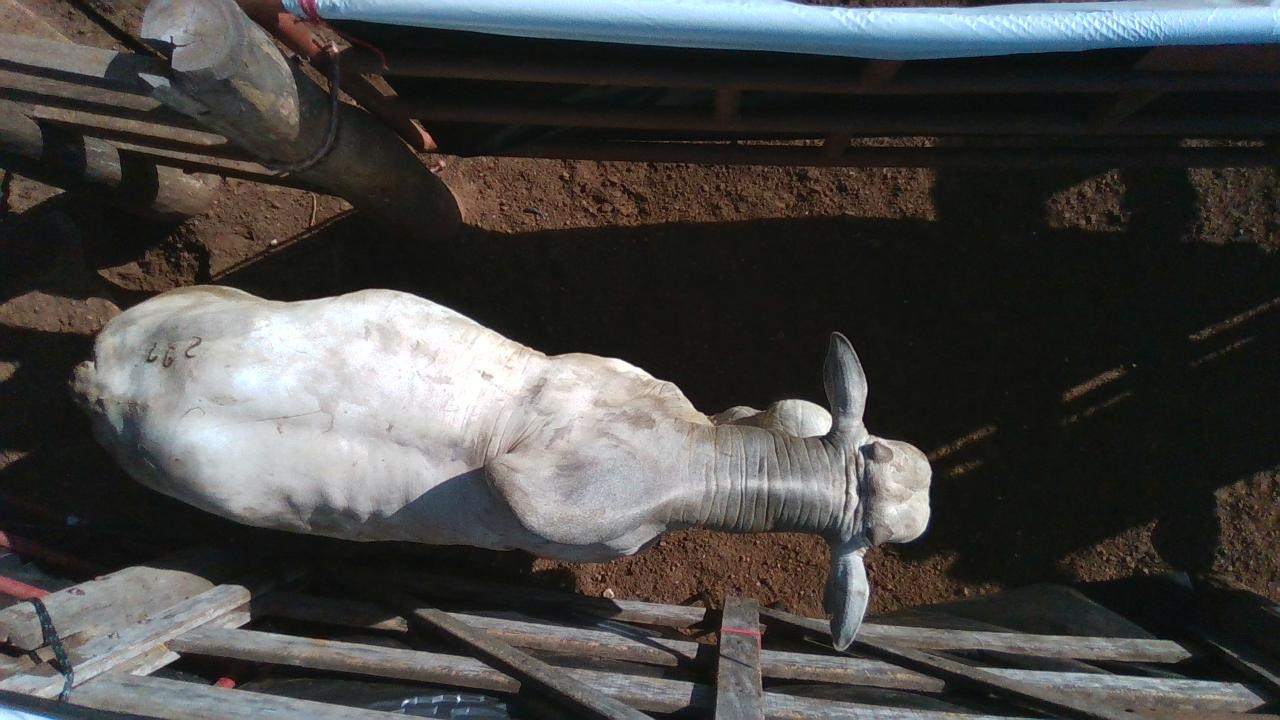cattle: (67, 281, 934, 651)
